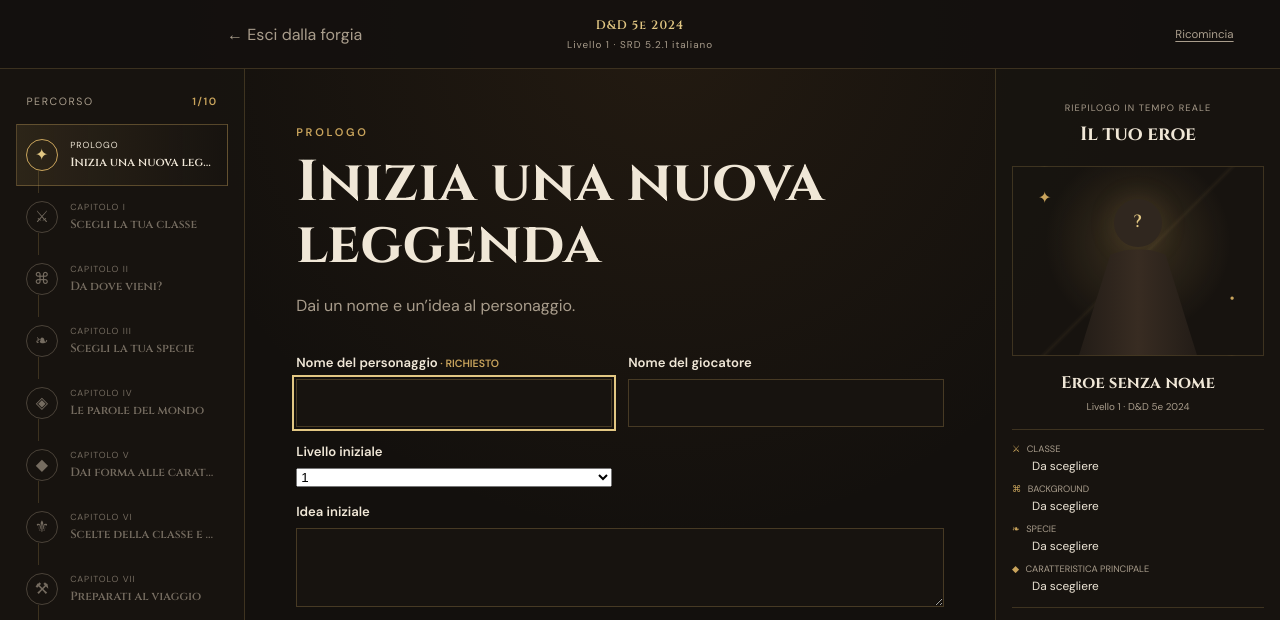
Test: CharacterBuilder › aggiorna immediatamente il riepilogo del personaggio
The image size is (1280, 620).
Step 1. Type "Neris" into the field labelled "Nome del personaggio · Richiesto" → coordinates (454, 403), box [296,379,612,427]
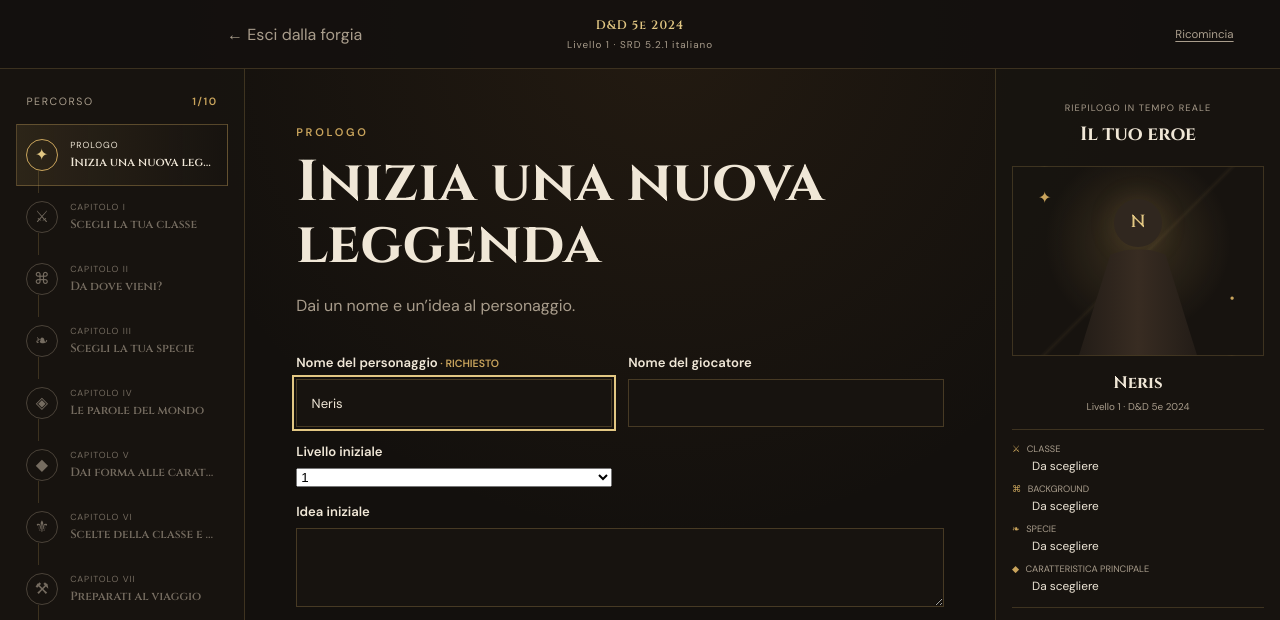
Expected: the text "Livello 1 · D&D 5e 2024" is shown, [1086,400,1190,413]
Now the heading "Neris" is shown, box [1113,372,1163,394]
